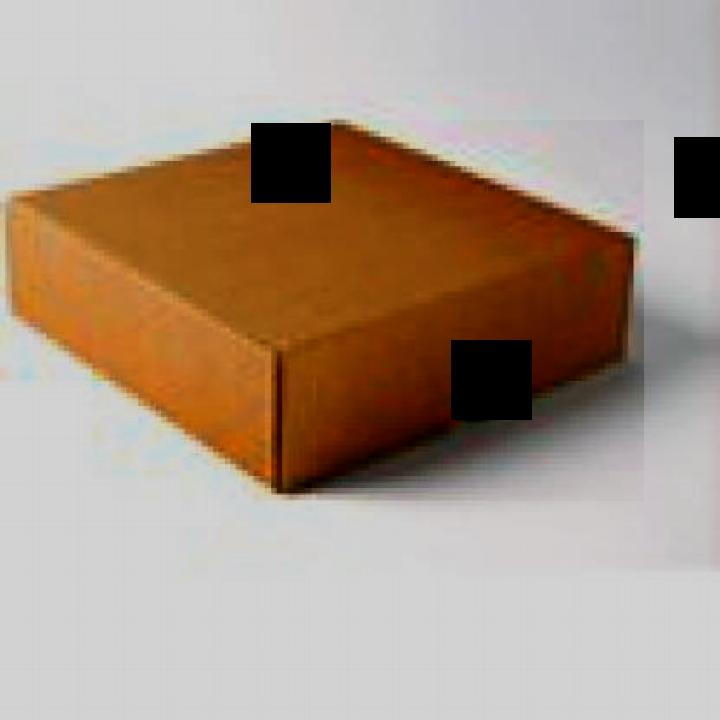box: (0, 120, 644, 501)
